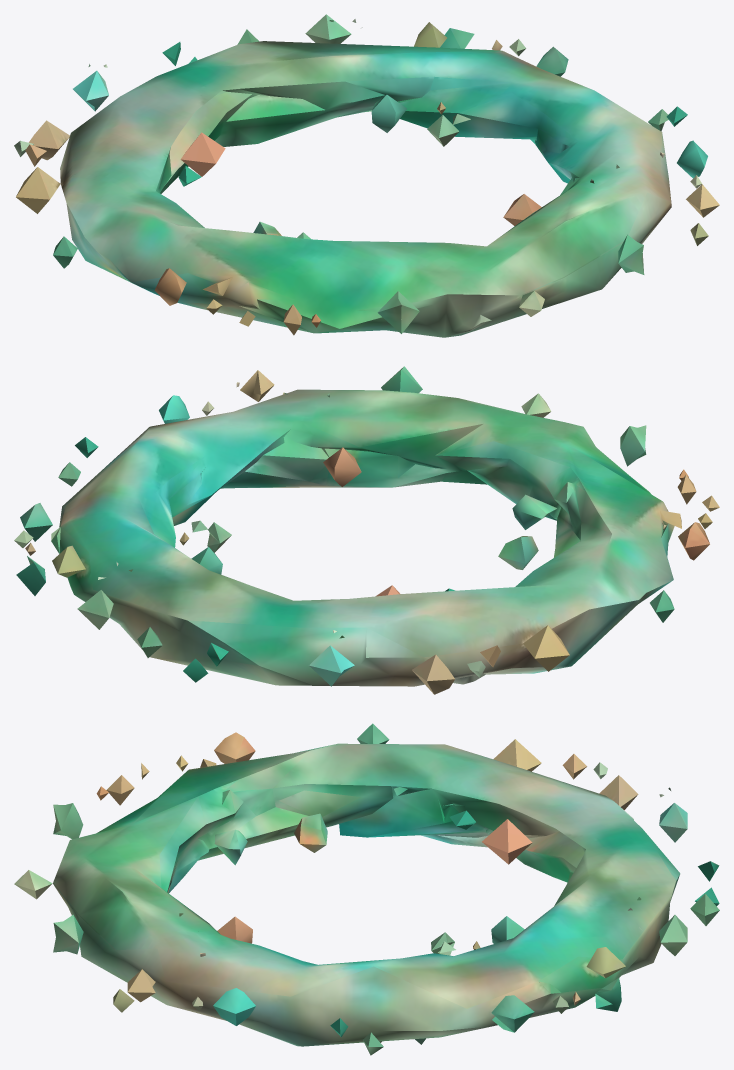
The model's file is 治療光環.glb.
3 views of the same model, one above another, from view 1: azimuth 30°, elevation 25°; view 2: azimuth 150°, elevation 25°; view 3: azimuth 270°, elevation 25° (orthographic).
Visible parts, largest first — view 1: geometry_0; view 2: geometry_0; view 3: geometry_0.
Boxes of the visible parts, x1=… form: geometry_0: x1=14, y1=14, x2=719, y2=337; geometry_0: x1=14, y1=366, x2=719, y2=694; geometry_0: x1=14, y1=723, x2=719, y2=1055.
Size of the model in its own units: 1 by 0.1517 by 0.9908.
Materials: 1 (1 with a texture image).
